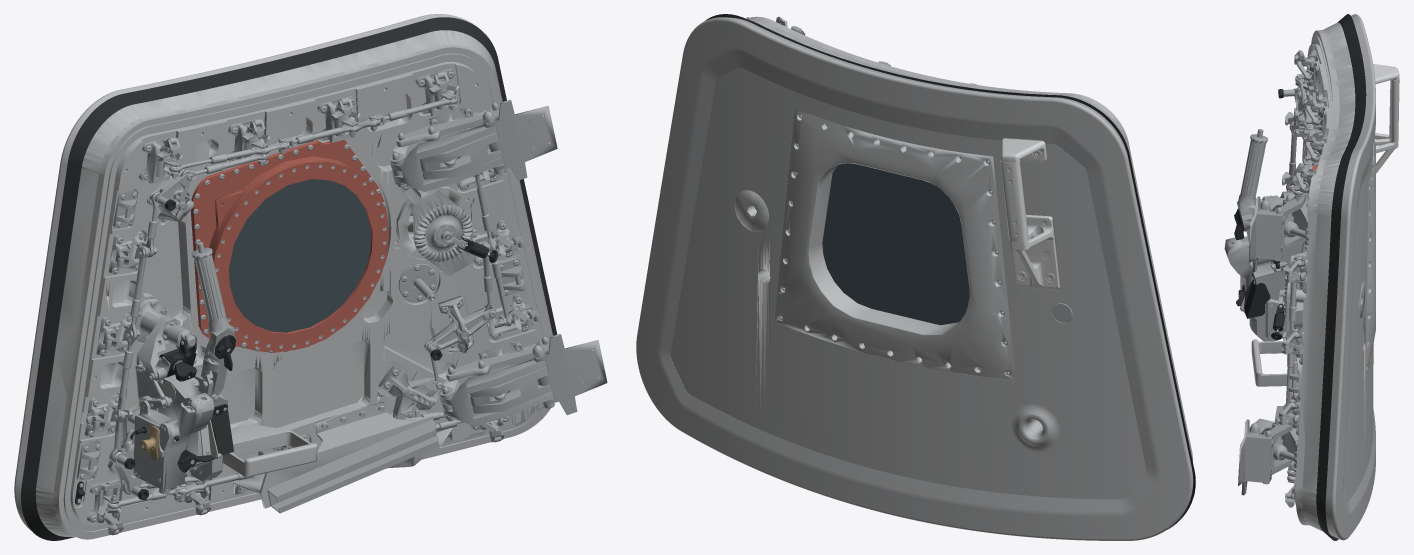
The model's file is apollo-hatch-yOnCt63Y.glb.
3 renders of one model, left to right at view 1: azimuth 30°, elevation 25°; view 2: azimuth 150°, elevation 25°; view 3: azimuth 270°, elevation 25°, orthographic. The views are drawn at different scales.
Visible parts, largest first — view 1: part_0799, part_0184, part_0800, part_0186, part_0185, part_0798, part_0712, part_0419, part_0628, part_0599, part_0678, part_0465 (+22 smaller); view 2: part_0799, part_0384, part_0385, part_0137, part_0800, part_0183, part_0787, part_0785; view 3: part_0799, part_0800, part_0032, part_0384, part_0599, part_0628, part_0508, part_0678, part_0388, part_0548, part_0183, part_0602 (+18 smaller).
Boxes of the visible parts, x1,y1,x2,y2 form: part_0799: (14, 14, 552, 539); part_0184: (229, 179, 371, 332); part_0800: (21, 17, 557, 540); part_0186: (213, 160, 388, 351); part_0185: (190, 139, 387, 352); part_0798: (233, 402, 452, 508); part_0712: (267, 419, 438, 513); part_0419: (400, 186, 473, 276); part_0628: (532, 334, 607, 415); part_0599: (482, 99, 557, 180); part_0678: (222, 424, 317, 477); part_0465: (135, 364, 201, 489); part_0799: (636, 16, 1193, 540); part_0384: (774, 108, 1015, 380); part_0385: (822, 163, 969, 325); part_0137: (1009, 215, 1060, 290); part_0800: (705, 14, 1195, 529); part_0183: (1000, 161, 1028, 242); part_0787: (734, 190, 768, 231); part_0785: (1000, 138, 1046, 162); part_0799: (1294, 14, 1375, 540); part_0800: (1316, 14, 1366, 540); part_0032: (1225, 238, 1305, 338); part_0384: (1366, 139, 1375, 374); part_0599: (1248, 196, 1283, 272); part_0628: (1238, 419, 1273, 495); part_0508: (1237, 129, 1273, 264); part_0678: (1251, 339, 1302, 386); part_0388: (1250, 261, 1289, 305); part_0548: (1244, 280, 1270, 318); part_0183: (1389, 78, 1399, 142); part_0602: (1280, 196, 1305, 256).
Size of the model in its own units: 40.82 by 31.52 by 13.32.
